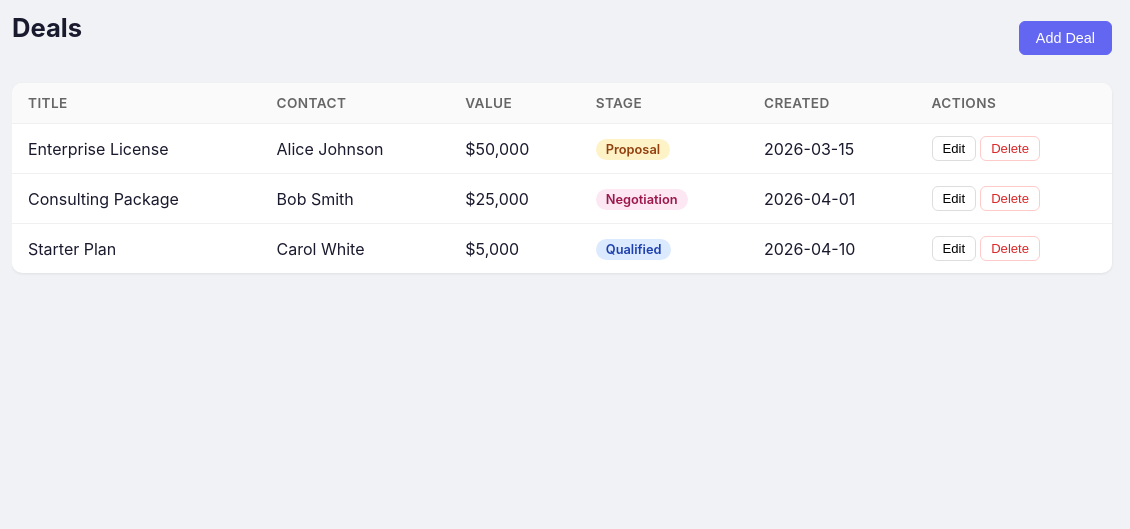
Deals › opens add deal form
Click the button "Add Deal": [1065, 38] box [1019,20,1112,54]
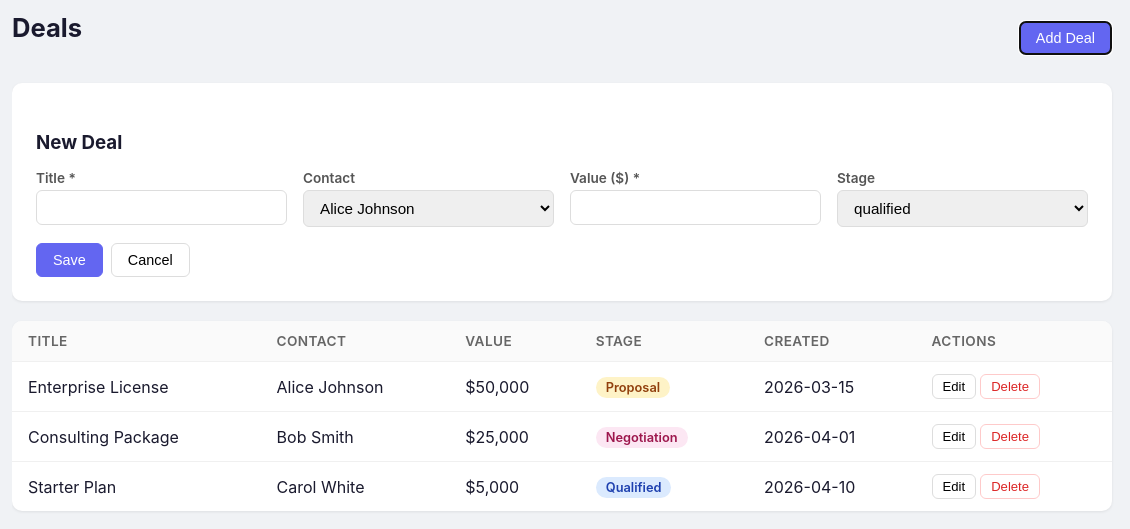
Expected: the heading "New Deal" is shown, [36,131,122,154]
